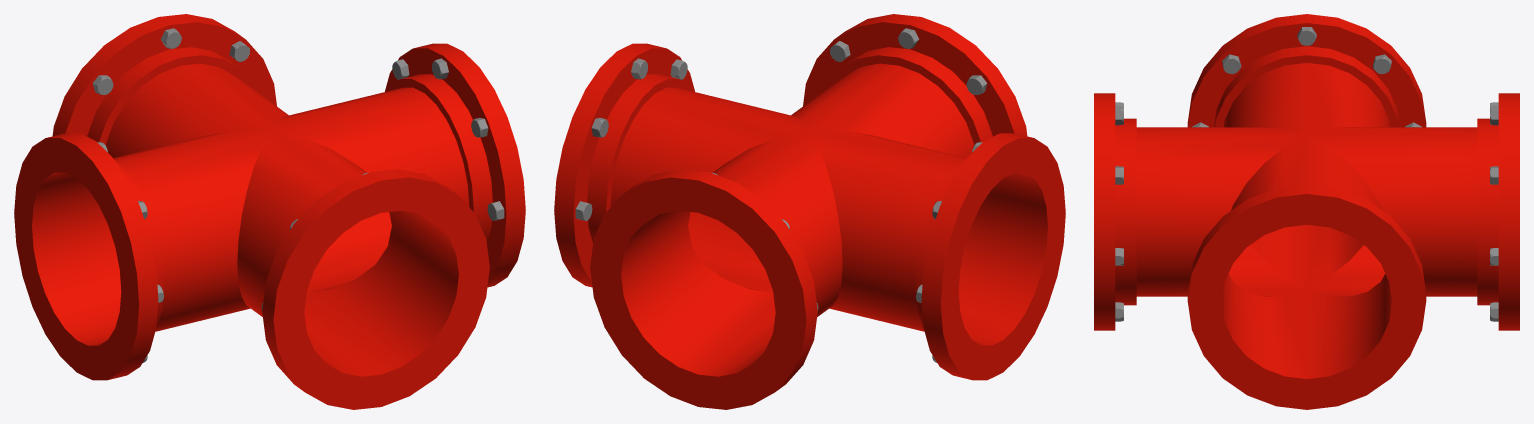
The model's file is Pipe_200_X.fbx.
3 renders of one model, left to right at view 1: azimuth 30°, elevation 25°; view 2: azimuth 150°, elevation 25°; view 3: azimuth 270°, elevation 25°, orthographic. The views are drawn at different scales.
Parts seen in each view (by area): view 1: Pipe_200_X; view 2: Pipe_200_X; view 3: Pipe_200_X.
Boxes of the visible parts, bbox=[...] form: Pipe_200_X: bbox=[14, 14, 525, 409]; Pipe_200_X: bbox=[554, 14, 1065, 409]; Pipe_200_X: bbox=[1094, 14, 1519, 409].
Bounding box in the file's own units: 0.5 × 0.28 × 0.5.
